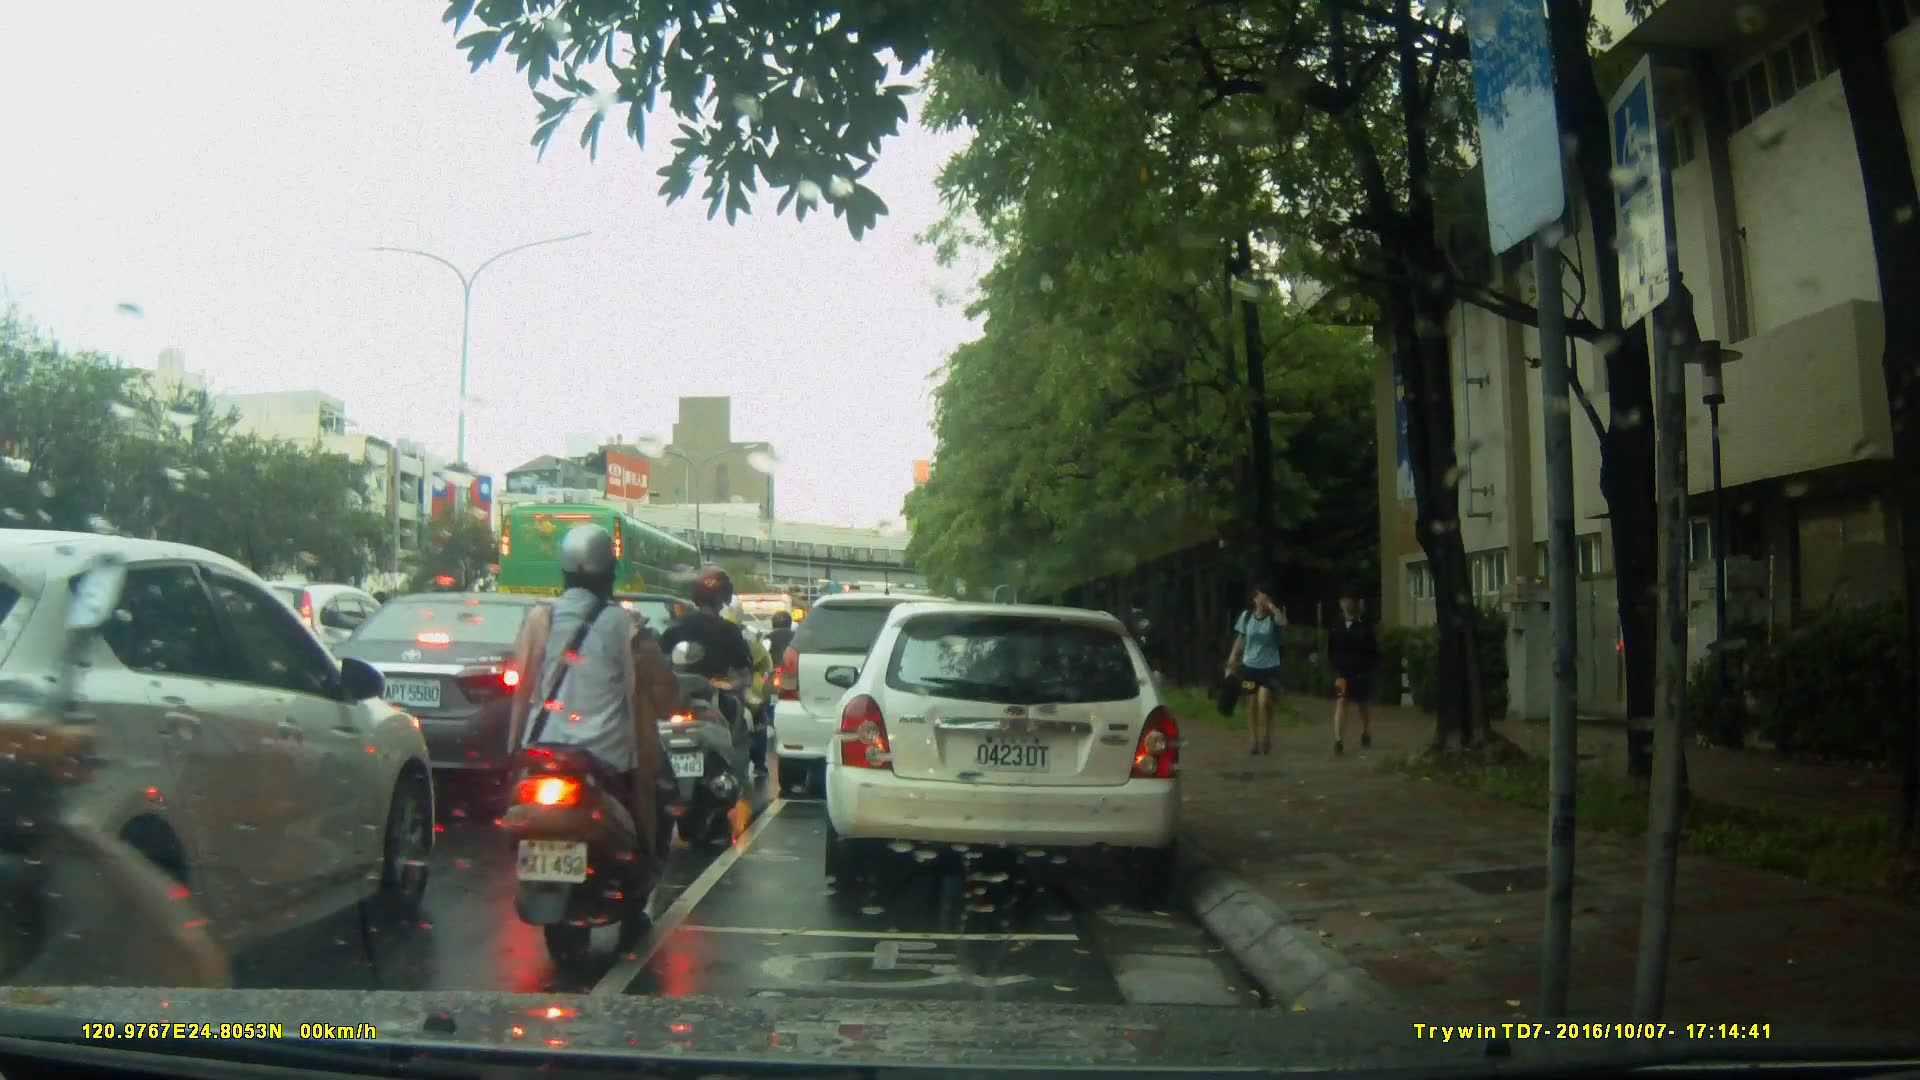pedestrian: (1210, 581, 1324, 760), (1322, 574, 1393, 763), (1123, 596, 1163, 727)
rider: (505, 525, 672, 965), (647, 569, 751, 835), (703, 594, 775, 775), (753, 610, 813, 752)
vehicle: (1, 528, 446, 987), (831, 592, 1196, 897), (312, 590, 639, 806), (770, 592, 999, 802), (495, 500, 707, 637)
